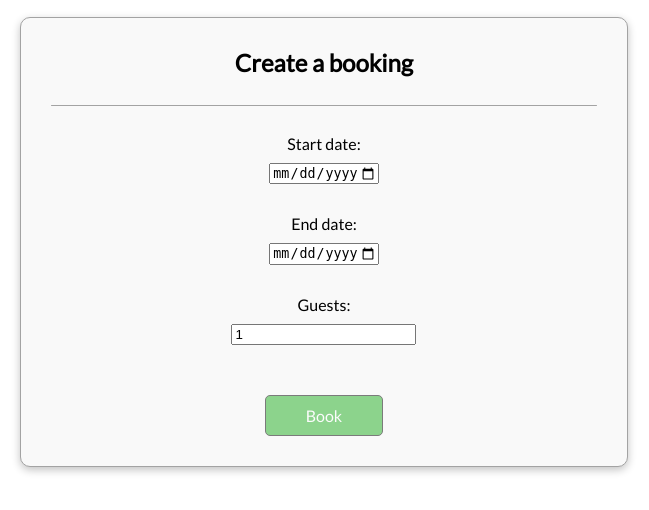
Scenario: Book property › end date validation works correctly
In the date field with test id "end-date-test": point(324, 254) left=269, top=243, right=379, bottom=265, type "2026-01-01"
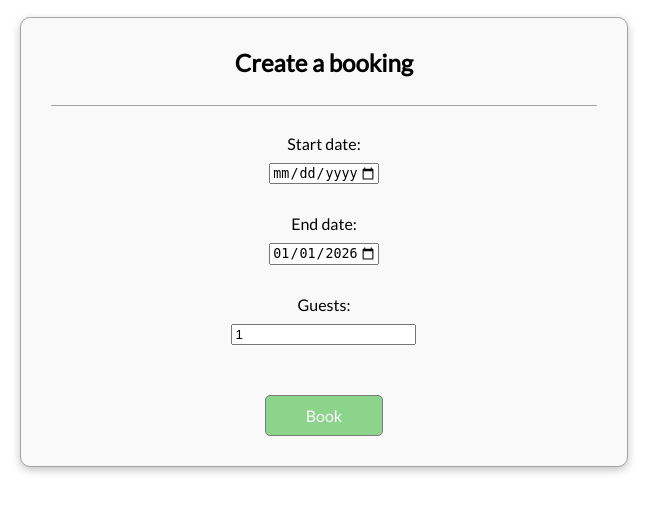
Leave the date field with test id "end-date-test", box left=269, top=243, right=379, bottom=265
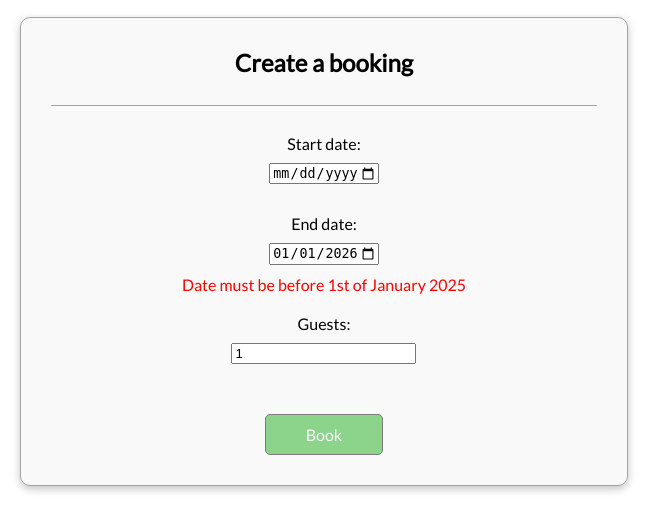
Check: the text "Date must be before 1st of January 2025" is shown, box left=182, top=275, right=466, bottom=294
